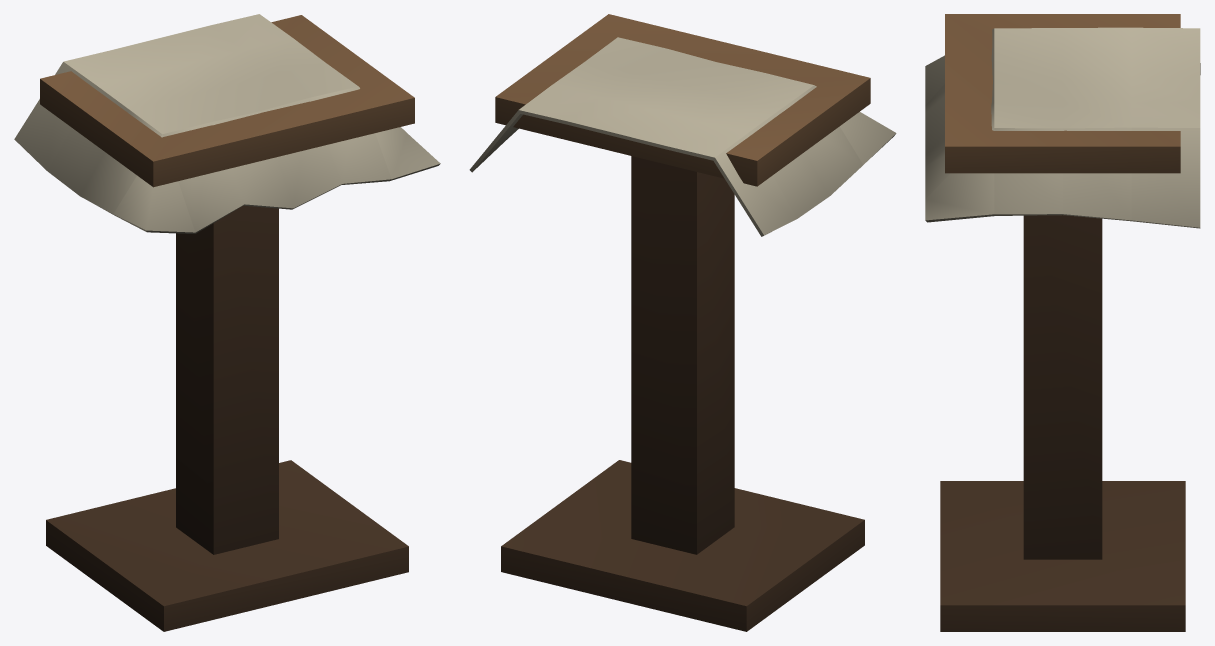
The model's file is ph_int_surgery_lectern.glb.
3 renders of one model, left to right at view 1: azimuth 30°, elevation 25°; view 2: azimuth 150°, elevation 25°; view 3: azimuth 270°, elevation 25°, orthographic. The views are drawn at different scales.
Visible parts, largest first — view 1: ph_int_surgery_lectern; view 2: ph_int_surgery_lectern; view 3: ph_int_surgery_lectern.
Boxes of the visible parts, x1,y1,x2,y2 form: ph_int_surgery_lectern: [14, 14, 440, 631]; ph_int_surgery_lectern: [469, 14, 896, 631]; ph_int_surgery_lectern: [925, 14, 1200, 631].
Size of the model in its own units: 0.72 by 1.11 by 0.5603.
